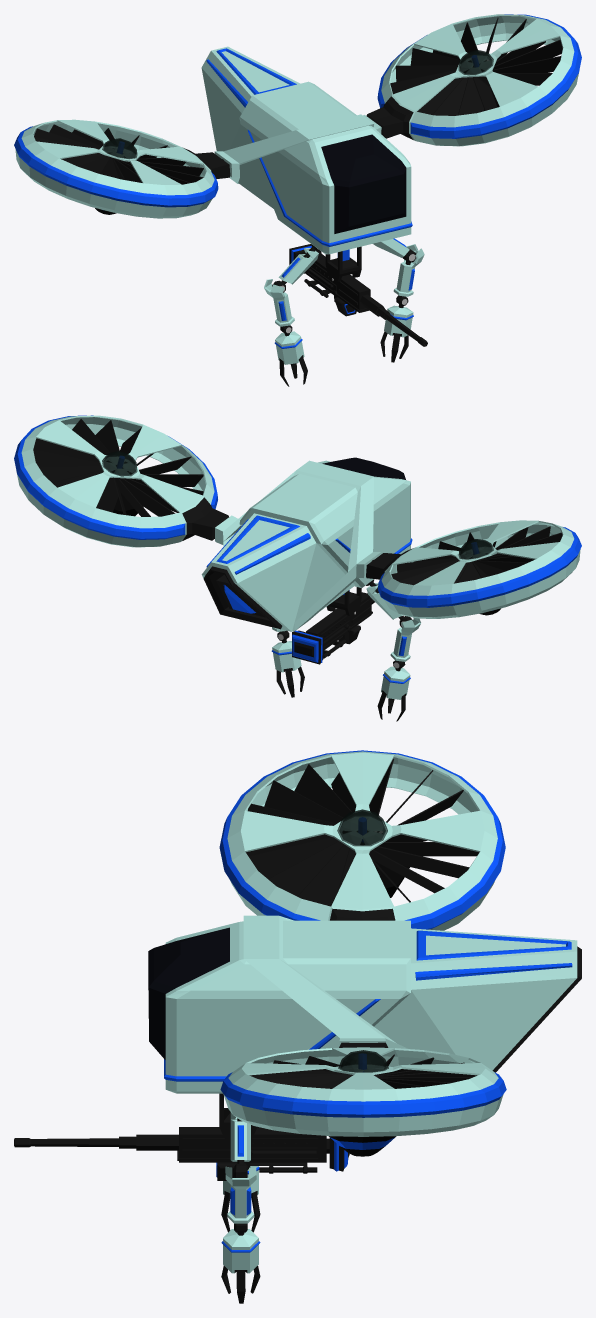
The model's file is Drone_01.FBX.
3 views of the same model, one above another, from view 1: azimuth 30°, elevation 25°; view 2: azimuth 150°, elevation 25°; view 3: azimuth 270°, elevation 25° (orthographic). The views are drawn at different scales.
Parts seen in each view (by area): view 1: Drone_01, rotor_l, rotor_r, blades_l, blades_r, rotorLight_l, rotorLight_r, gun, rotorMount, gunMount, grabJoint_l-02, grabJoint_r-02 (+3 smaller); view 2: Drone_01, rotor_l, rotor_r, blades_l, rotorMount, blades_r, rotorLight_r, rotorLight_l, gun, grabJoint_r-02, grabHead-r, grabHead-l (+2 smaller); view 3: Drone_01, rotor_r, rotor_l, blades_r, gun, rotorMount, rotorLight_l, rotorLight_r, blades_l, grabJoint_l-02, grabHead-l, grabJoint_l-01 (+1 smaller).
Part boxes in pixels (left/top/right/bottom): Drone_01: left=201, top=46, right=412, bottom=254; rotor_l: left=366, top=14, right=579, bottom=146; rotor_r: left=15, top=119, right=230, bottom=218; blades_l: left=390, top=17, right=562, bottom=115; blades_r: left=34, top=124, right=203, bottom=184; rotorLight_l: left=377, top=14, right=581, bottom=138; rotorLight_r: left=14, top=126, right=218, bottom=207; gun: left=289, top=244, right=427, bottom=346; rotorMount: left=214, top=114, right=381, bottom=183; gunMount: left=325, top=246, right=361, bottom=282; grabJoint_l-02: left=393, top=244, right=424, bottom=296; grabJoint_r-02: left=264, top=279, right=294, bottom=326; Drone_01: left=201, top=457, right=412, bottom=631; rotor_l: left=16, top=415, right=228, bottom=547; rotor_r: left=366, top=520, right=580, bottom=618; blades_l: left=33, top=419, right=203, bottom=516; rotorMount: left=215, top=460, right=381, bottom=631; blades_r: left=391, top=526, right=562, bottom=585; rotorLight_r: left=378, top=527, right=581, bottom=607; rotorLight_l: left=14, top=415, right=217, bottom=539; gun: left=292, top=592, right=374, bottom=664; grabJoint_r-02: left=390, top=616, right=420, bottom=661; grabHead-r: left=381, top=666, right=410, bottom=699; grabHead-l: left=271, top=639, right=301, bottom=672; Drone_01: left=148, top=920, right=581, bottom=1093; rotor_r: left=227, top=751, right=497, bottom=930; rotor_l: left=223, top=1042, right=503, bottom=1136; blades_r: left=246, top=758, right=479, bottom=906; gun: left=14, top=1127, right=349, bottom=1180; rotorMount: left=243, top=915, right=408, bottom=1048; rotorLight_l: left=220, top=1072, right=506, bottom=1117; rotorLight_r: left=219, top=750, right=505, bottom=929; blades_l: left=249, top=1054, right=477, bottom=1088; grabJoint_l-02: left=225, top=1163, right=256, bottom=1223; grabHead-l: left=221, top=1229, right=260, bottom=1273; grabJoint_l-01: left=230, top=1112, right=250, bottom=1163.
Bounding box in the file's own units: 87.48 × 58.46 × 39.08.
